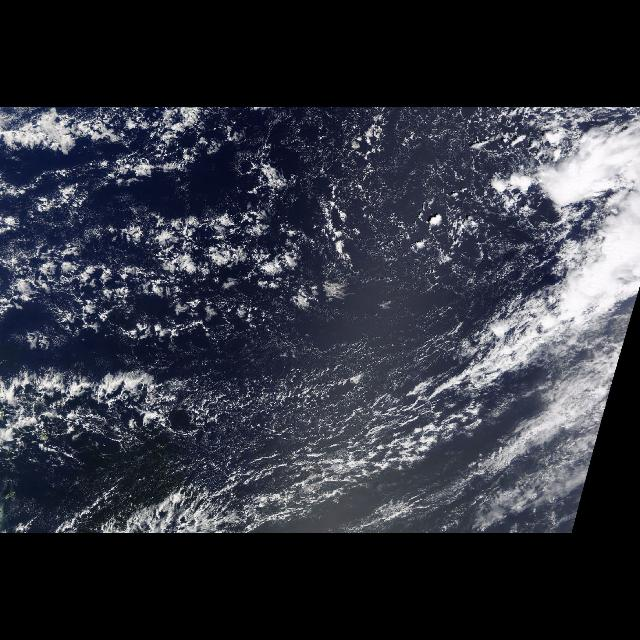Fish: (394, 302, 630, 404), (6, 364, 182, 466)
Gravel: (1, 108, 457, 484)
Sugar: (160, 363, 420, 455)
